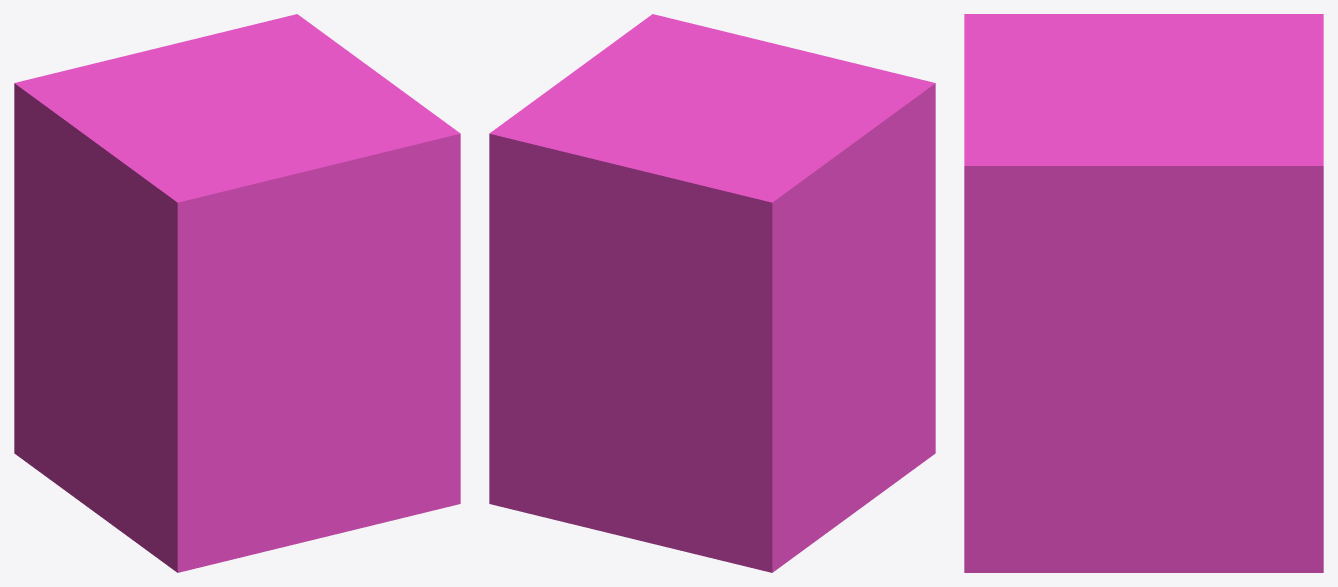
Rendered from tesla_coil.glb.
The picture shows the model from 3 angles, left to right: view 1: azimuth 30°, elevation 25°; view 2: azimuth 150°, elevation 25°; view 3: azimuth 270°, elevation 25°; orthographic projection. The views are drawn at different scales.
Parts seen in each view (by area): view 1: COL_BOX_BODY; view 2: COL_BOX_BODY; view 3: COL_BOX_BODY.
Boxes of the visible parts, left/top/right/bottom form: COL_BOX_BODY: left=14, top=14, right=460, bottom=572; COL_BOX_BODY: left=489, top=14, right=935, bottom=572; COL_BOX_BODY: left=964, top=14, right=1323, bottom=572.
Bounding box in the file's own units: 1.2 × 1.5 × 1.2.
